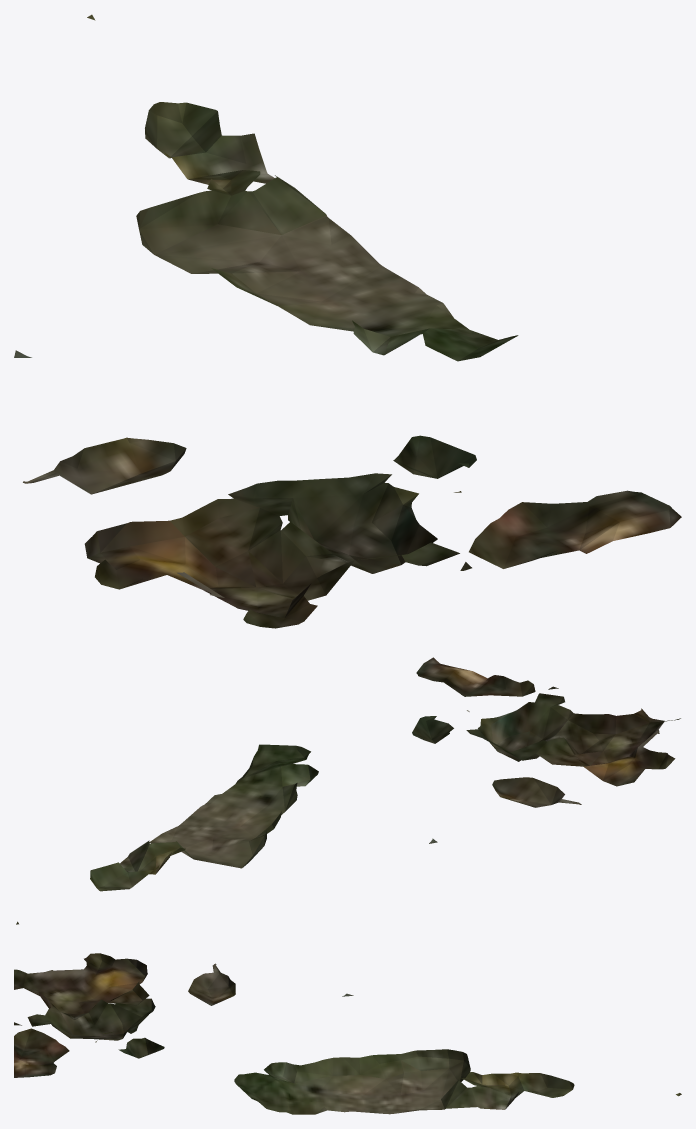
3 views of the same model, one above another, from view 1: azimuth 30°, elevation 25°; view 2: azimuth 150°, elevation 25°; view 3: azimuth 270°, elevation 25° (orthographic). The views are drawn at different scales.
Size of the model in its own units: 0.6824 by 0.0464 by 1.36.
Materials: 1 (1 with a texture image).
